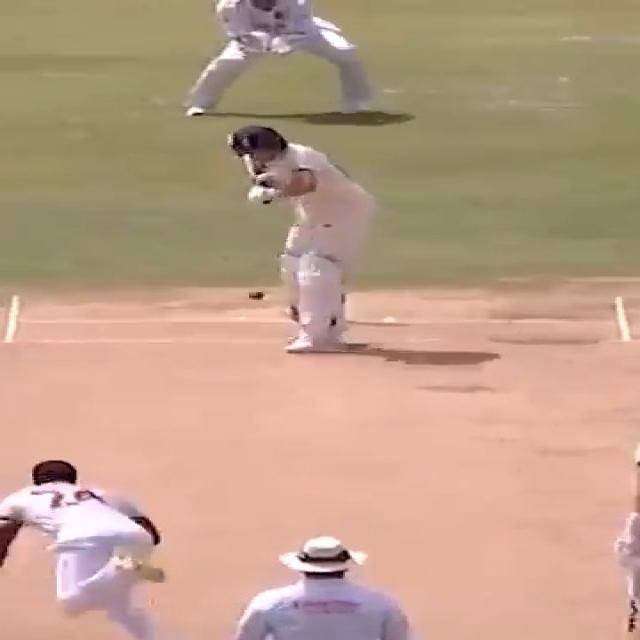Cricket ball: (246, 288, 267, 302)
